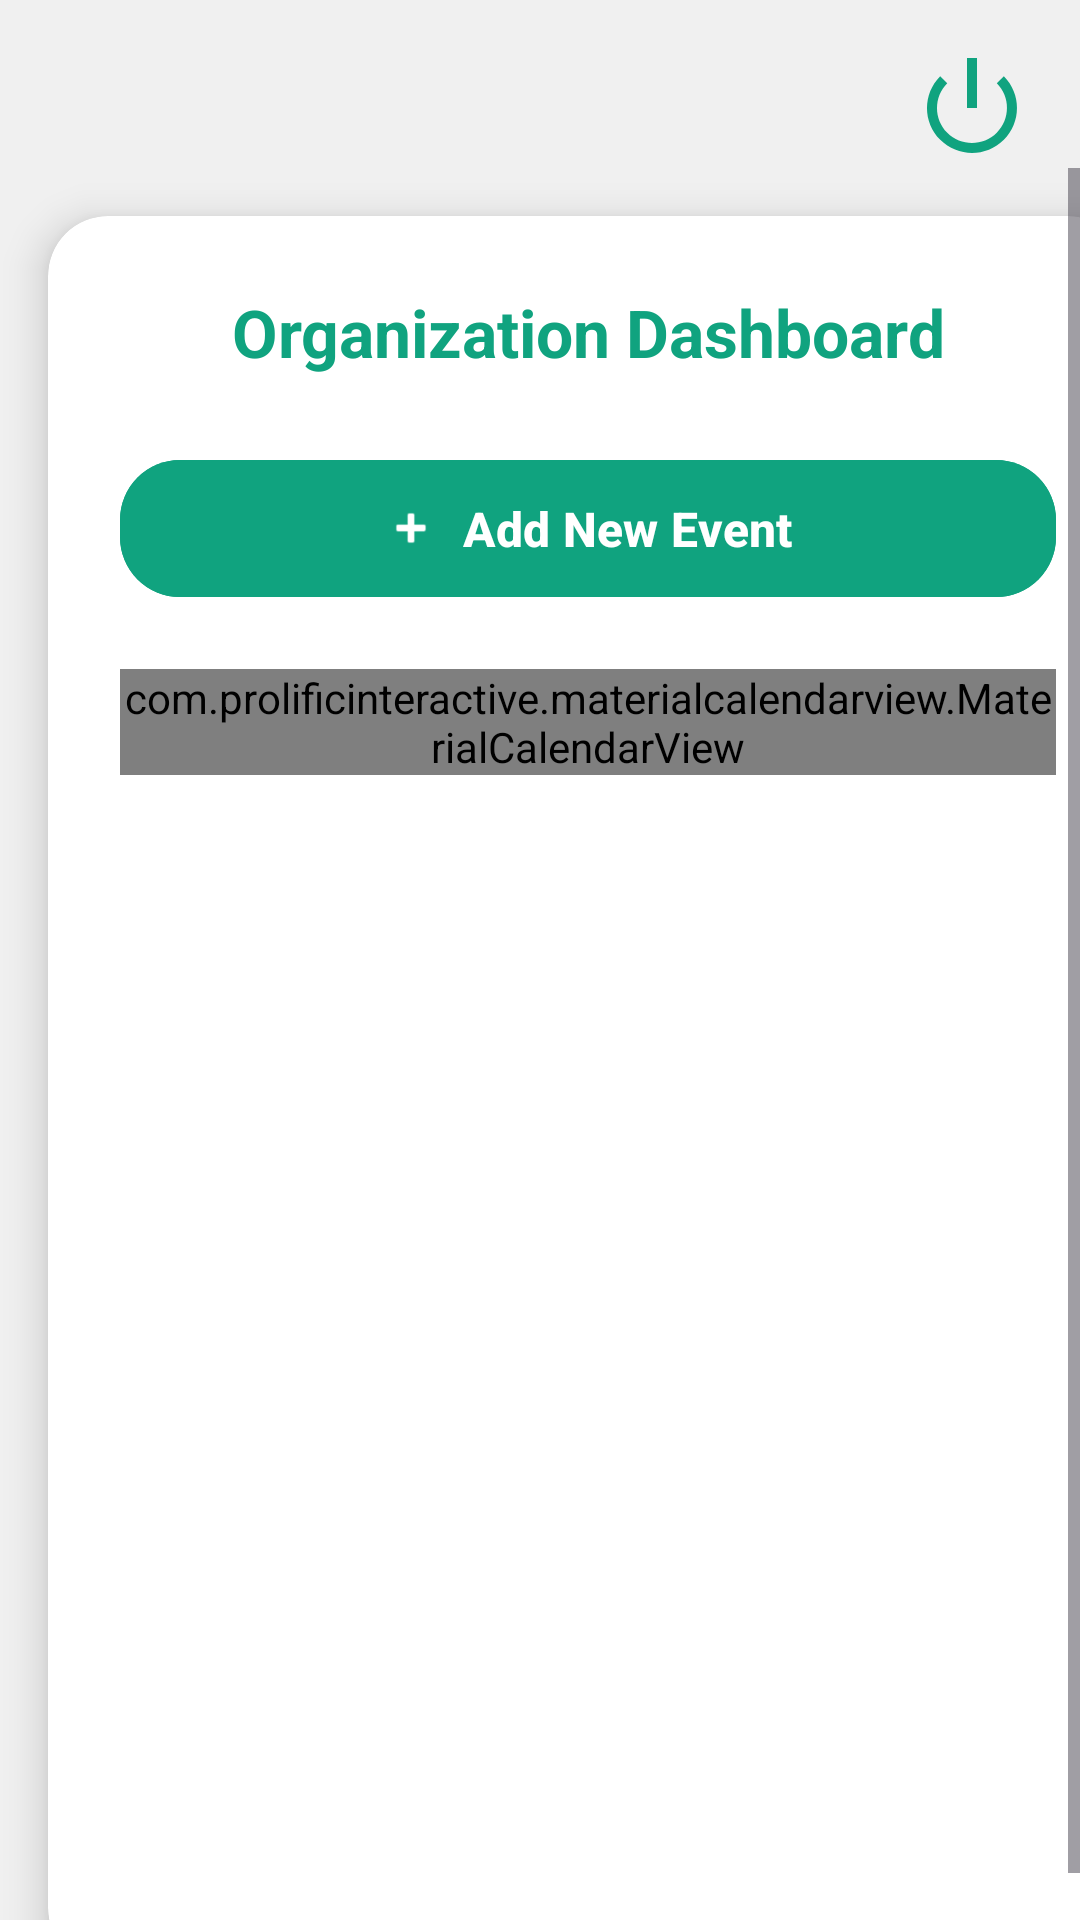

Where icons sit on this 1080*1920 app screen, as detection(x1, y1, x2, y2):
lock power off: detection(927, 58, 1017, 153)
